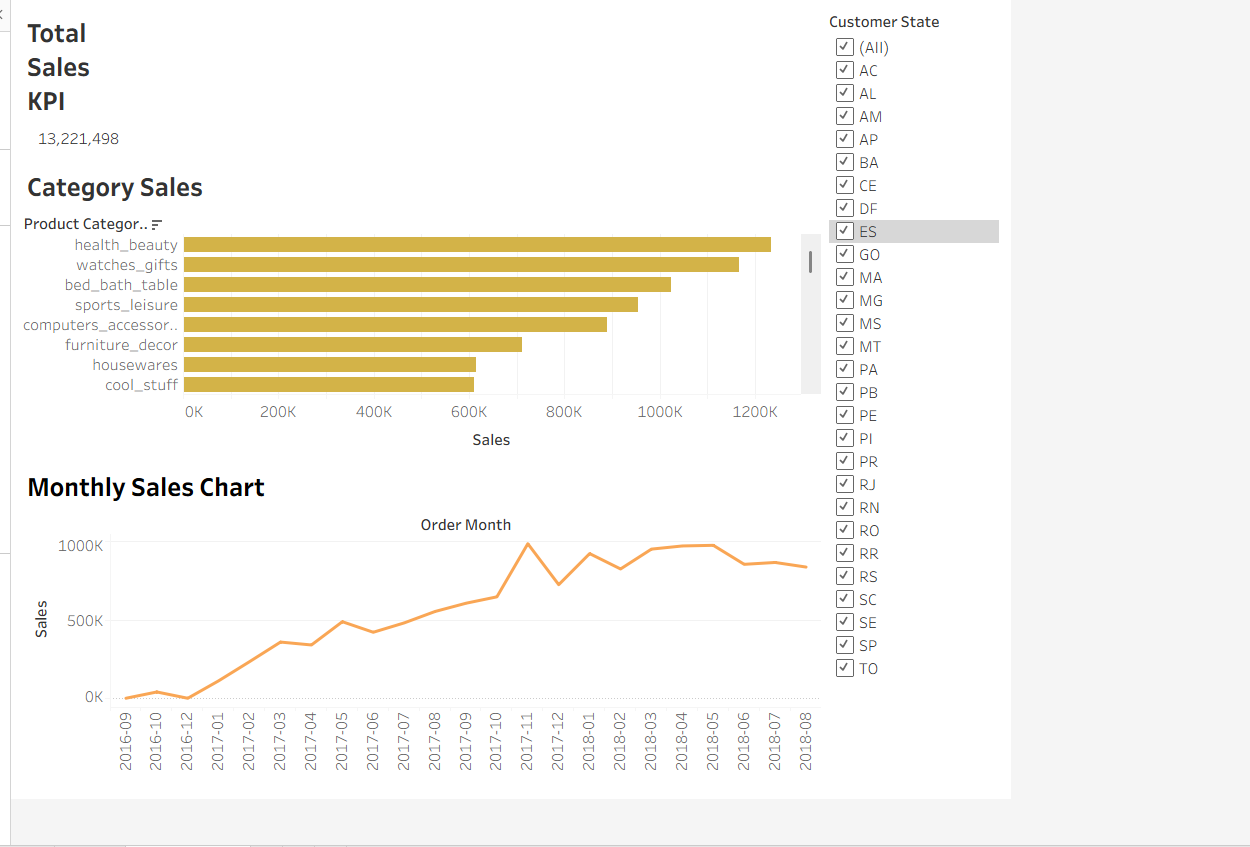

This screenshot's page, from the dashboard's own definition file:
{"tool":"tableau","page":{"name":"Dashboard 1","canvas":[1000,800],"ordinal":0},"visuals":[{"type":"title","box":[8,8,773.8,52]},{"type":"filter","title":"Sheet 4","param":"[federated.1n2o1ew0lqu78g16n91ds1hd35sv].[none:customer_state:nk]","box":[781.8,8,210,752]},{"type":"worksheet","title":"Sheet 3","mark":"Automatic","box":[8,60,773.8,154]},{"type":"worksheet","title":"Sheet 4","mark":"Automatic","rows":["product_category_name_english"],"cols":["Sales"],"box":[8,214,773.8,300]},{"type":"worksheet","title":"Sheet 1","mark":"Line","rows":["Sales"],"cols":["Order_Month"],"box":[8,514,773.8,278]}]}

Visuals, with their boxes on the page's 1000x800 design canvas (x1, y1, x2, y2). These are canvas units, not pixel positions in the 1250x847 screenshot, which may show the page scaled, cropped or inside an application window:
title: 8,8,782,60
"Sheet 4" filter: 782,8,992,760
"Sheet 3" worksheet: 8,60,782,214
"Sheet 4" worksheet: 8,214,782,514
"Sheet 1" worksheet (Line marks): 8,514,782,792
